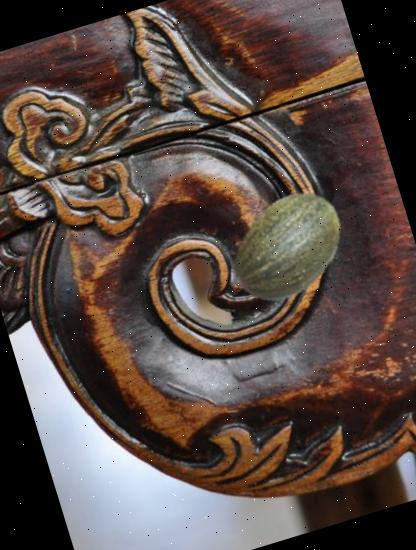Melon: (212, 170, 363, 321)
